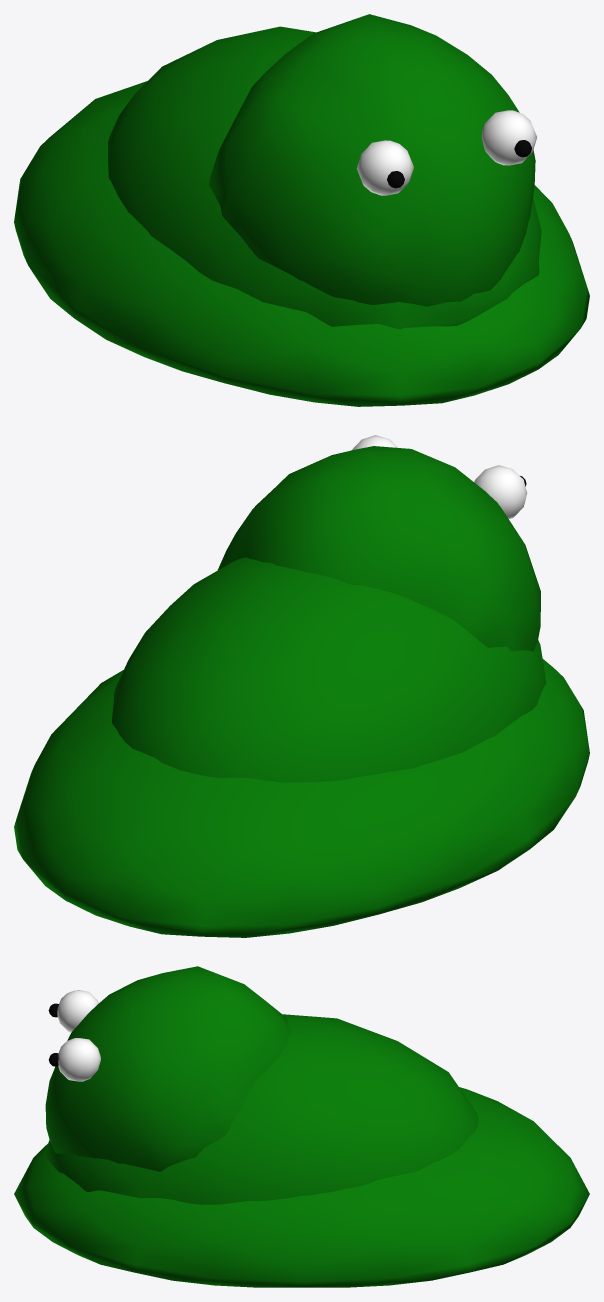
Rendered from slime.FBX.
The picture shows the model from 3 angles, top to bottom: view 1: azimuth 30°, elevation 25°; view 2: azimuth 150°, elevation 25°; view 3: azimuth 270°, elevation 25°; orthographic projection. The views are drawn at different scales.
Parts seen in each view (by area): view 1: Slime001; view 2: Slime001; view 3: Slime001.
Part boxes in pixels (x1=…): Slime001: x1=14, y1=14, x2=589, y2=406; Slime001: x1=14, y1=435, x2=589, y2=937; Slime001: x1=14, y1=966, x2=589, y2=1287.
Bounding box in the file's own units: 35.08 × 21.45 × 48.83.
